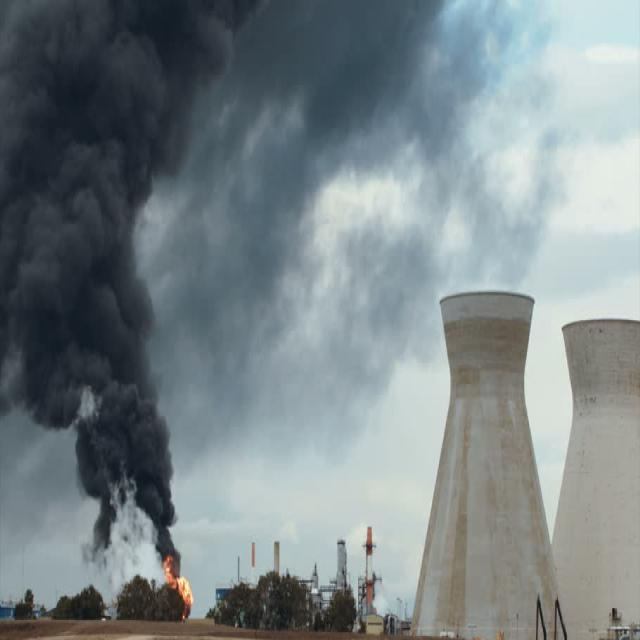Fire: (178, 577, 194, 623), (162, 556, 177, 593)
Smoke: (0, 0, 266, 425), (74, 426, 180, 552), (86, 549, 161, 617)
